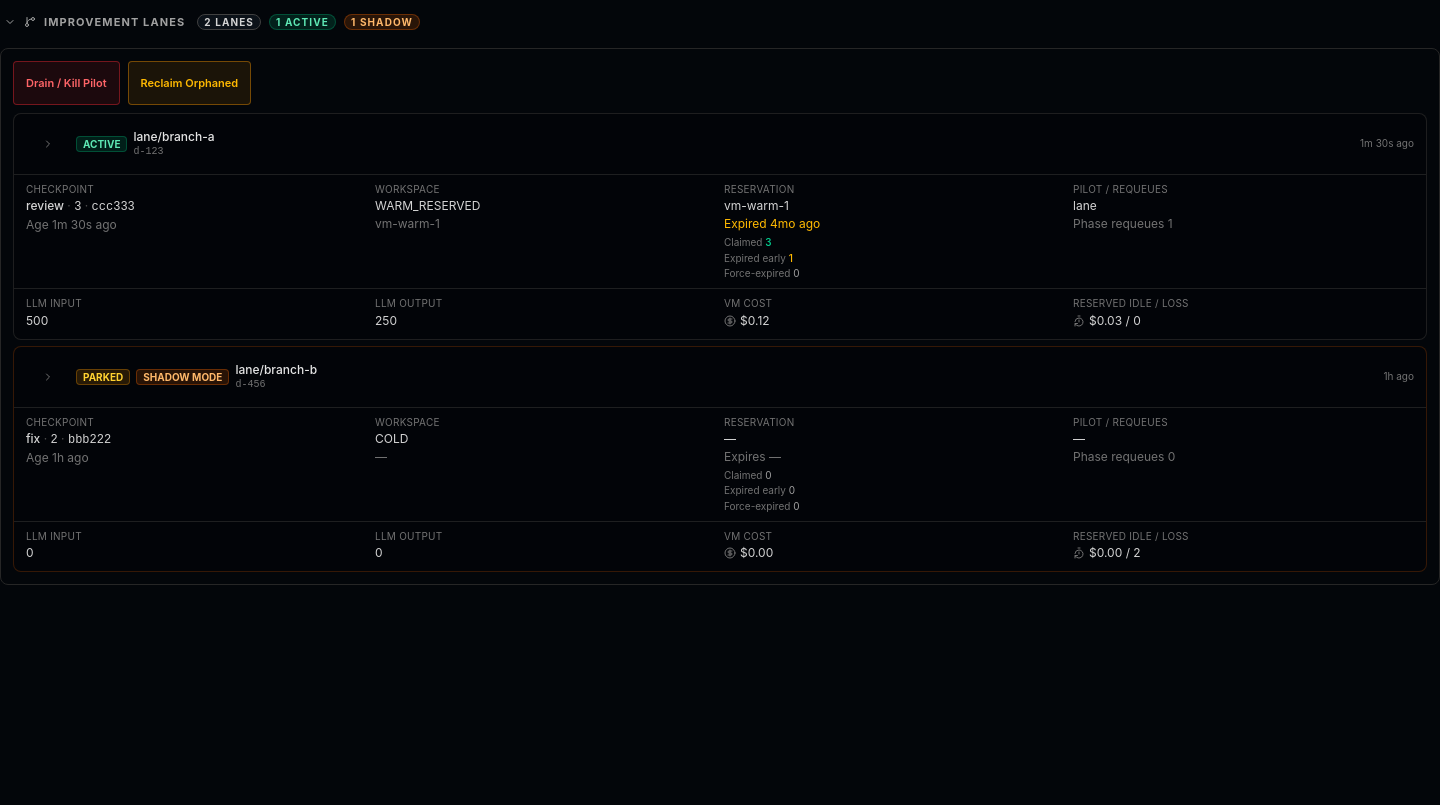
Scenario: ImprovementLanesPanel › LaneDetailPanel renders ManifestSection with phase_log array entries
The width and height of the screenshot is (1440, 805).
What coordinates should you click on to do the following:
click the button with test id "lane-expand-toggle" in the row of "lane/branch-a"
I would click on:
 (48, 144)
Its box is 26,122 -> 70,166.
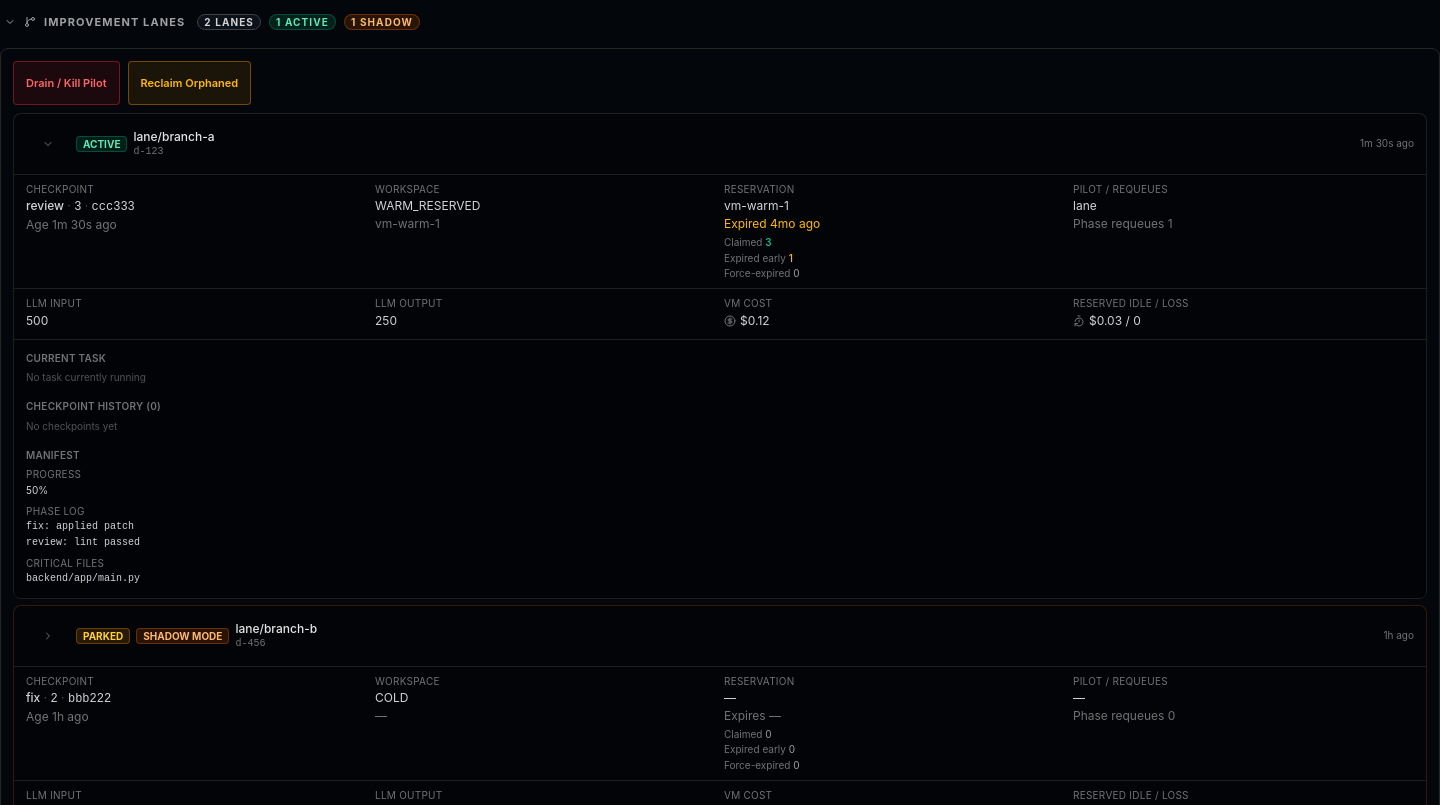
Check: the text "fix: applied patch" is shown, box 26,521 -> 134,532
Check: the text "review: lint passed" is shown, box 26,537 -> 140,548
Check: the list item "backend/app/main.py" is shown, box 26,573 -> 140,584
